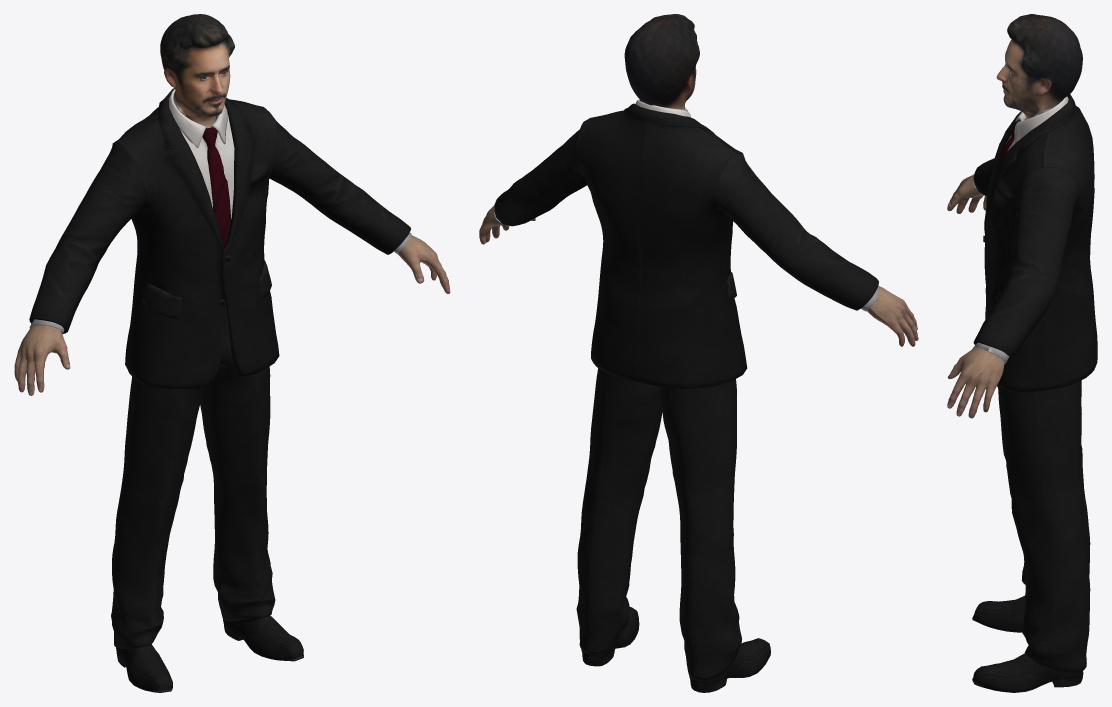
The model's file is tony .fbx.
3 views of the same model, side by side, from view 1: azimuth 30°, elevation 25°; view 2: azimuth 150°, elevation 25°; view 3: azimuth 270°, elevation 25° (orthographic).
Visible parts, largest first — view 1: Object_5, Object_6, Object_4, Object_2; view 2: Object_5, Object_6, Object_4; view 3: Object_5, Object_6, Object_4, Object_2.
Part boxes in pixels (box(x1,y1,x2,y2)): Object_5: box(14, 88, 450, 395); Object_6: box(111, 260, 303, 692); Object_4: box(160, 14, 234, 131); Object_2: box(168, 89, 234, 245); Object_5: box(479, 103, 918, 388); Object_6: box(576, 272, 770, 692); Object_4: box(624, 14, 699, 111); Object_5: box(947, 94, 1097, 418); Object_6: box(972, 292, 1090, 692); Object_4: box(996, 14, 1082, 120); Object_2: box(999, 96, 1068, 163).
Size of the model in its own units: 636 by 909 by 195.
